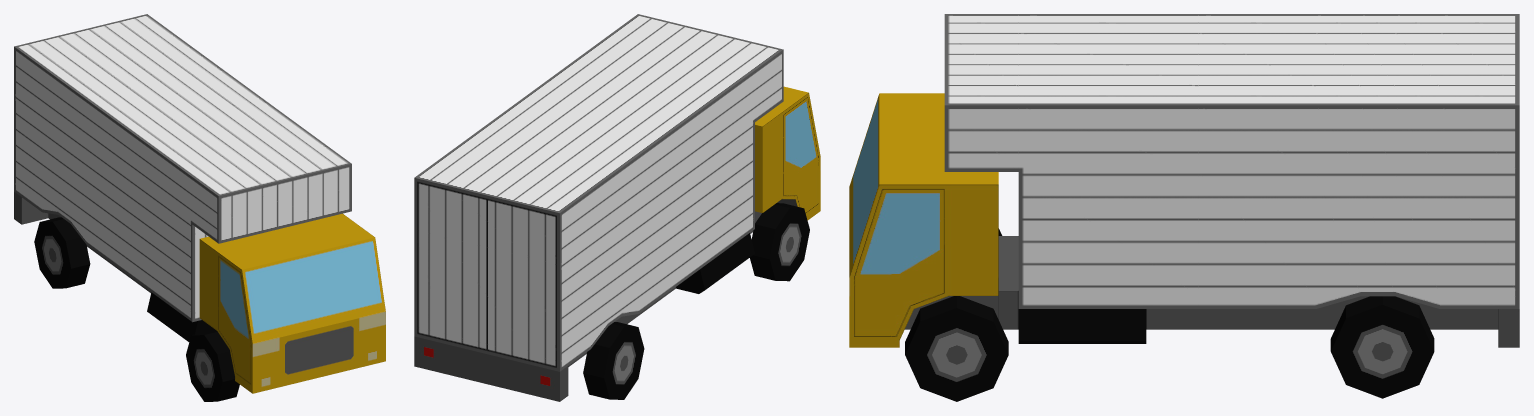
Rendered from camion.glb.
The picture shows the model from 3 angles, left to right: view 1: azimuth 30°, elevation 25°; view 2: azimuth 150°, elevation 25°; view 3: azimuth 270°, elevation 25°; orthographic projection. The views are drawn at different scales.
Visible parts, largest first — view 1: Cube.002, Low poly box truck, TFL.004, TFL.003; view 2: Cube.002, Low poly box truck, TFL.003, TFL.004; view 3: Cube.002, Low poly box truck, TFL, TFL.001.
Part boxes in pixels (left/top/right/bottom): Cube.002: left=14, top=14, right=351, bottom=322; Low poly box truck: left=14, top=192, right=385, bottom=393; TFL.004: left=34, top=217, right=90, bottom=288; TFL.003: left=186, top=330, right=239, bottom=401; Cube.002: left=414, top=14, right=783, bottom=371; Low poly box truck: left=414, top=86, right=820, bottom=401; TFL.003: left=750, top=203, right=809, bottom=281; TFL.004: left=583, top=322, right=644, bottom=399; Cube.002: left=944, top=14, right=1519, bottom=308; Low poly box truck: left=849, top=93, right=1519, bottom=347; TFL: left=905, top=296, right=1008, bottom=401; TFL.001: left=1330, top=296, right=1434, bottom=398.
Size of the model in its own units: 2.77 by 3.55 by 7.45.
Materials: 3 (3 with a texture image).
